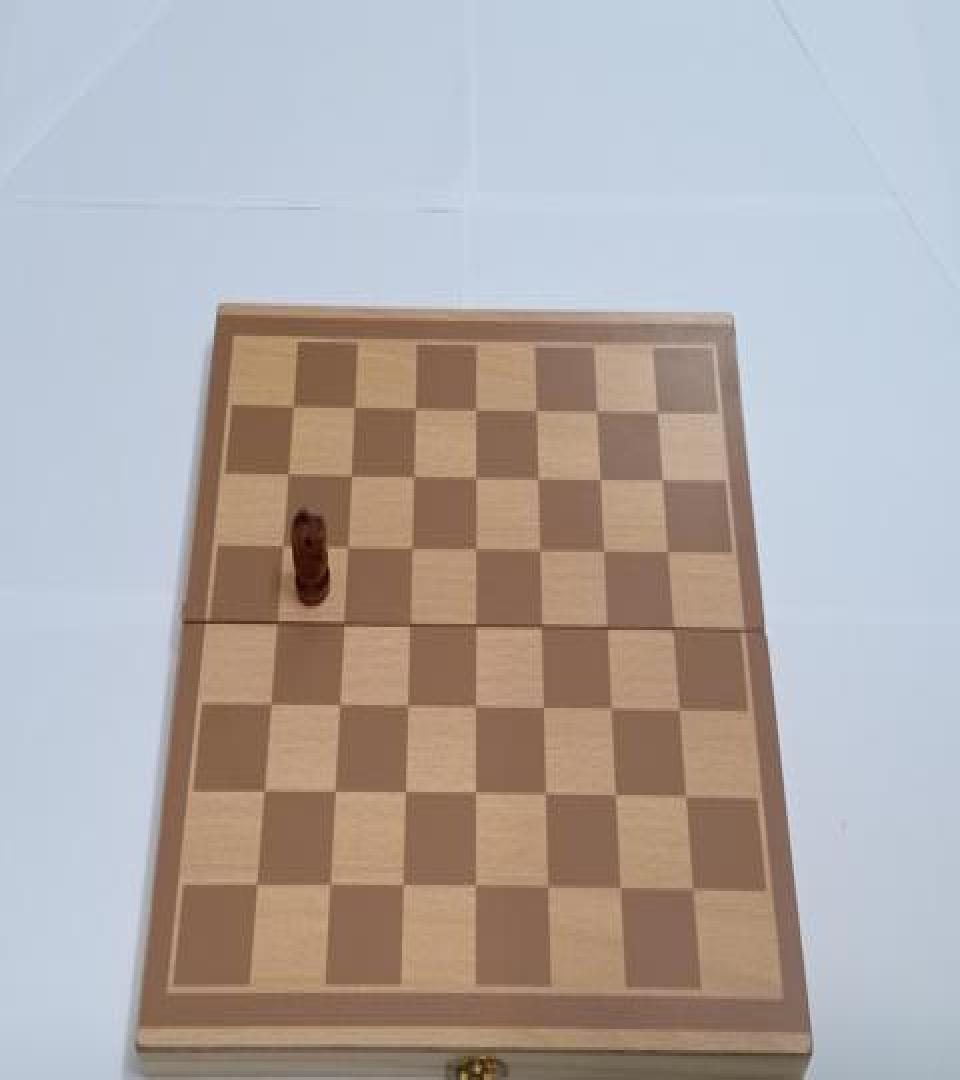xcorner: (655, 466, 675, 497), (649, 397, 669, 428), (687, 879, 707, 909), (680, 786, 700, 816), (673, 699, 693, 729), (661, 540, 681, 570), (614, 879, 634, 909), (609, 786, 629, 816), (596, 538, 616, 568), (592, 465, 612, 495), (588, 396, 608, 426), (534, 615, 554, 645), (531, 537, 551, 567), (529, 464, 549, 494), (527, 394, 547, 424), (467, 783, 487, 813), (467, 696, 487, 726), (467, 614, 487, 644), (466, 462, 486, 492), (466, 393, 486, 423), (394, 876, 414, 906), (396, 783, 416, 813), (398, 694, 418, 724), (400, 612, 420, 642), (402, 534, 422, 564), (403, 460, 423, 490), (405, 392, 425, 422), (320, 874, 340, 904), (325, 782, 345, 812), (329, 693, 349, 723), (336, 532, 356, 562), (340, 459, 360, 489), (343, 390, 363, 420), (246, 874, 266, 904), (253, 780, 273, 810), (259, 692, 279, 722), (265, 609, 285, 639), (271, 531, 291, 561), (276, 458, 296, 488), (281, 388, 301, 418), (667, 617, 687, 646), (605, 698, 625, 727), (600, 617, 620, 646), (541, 878, 561, 907), (538, 785, 558, 814), (536, 698, 556, 727), (468, 878, 488, 907), (467, 536, 487, 565), (333, 611, 353, 640)
